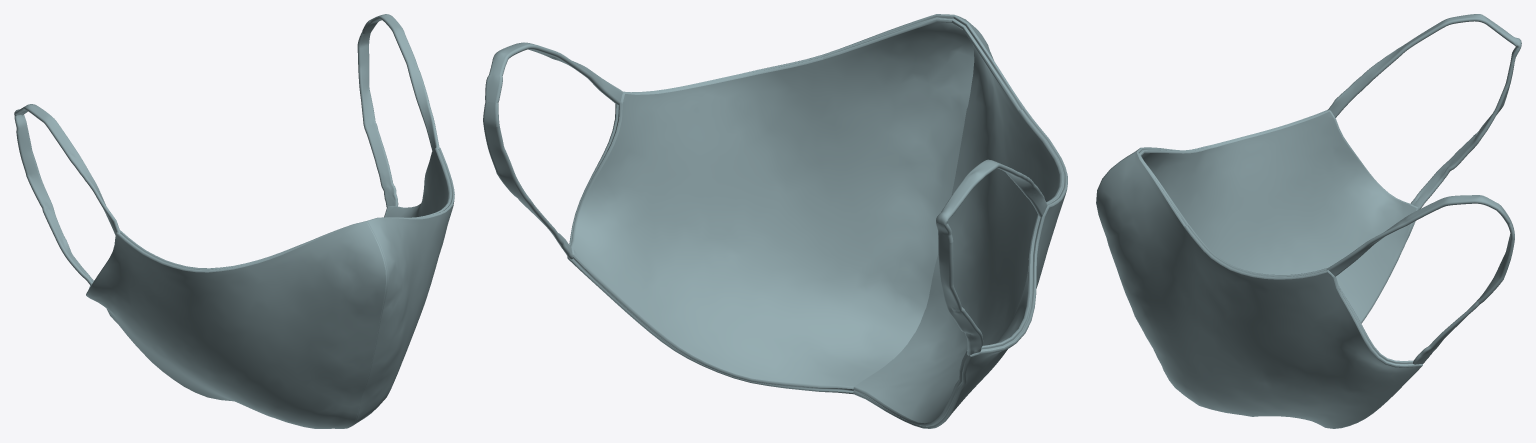
The model's file is mask.fbx.
The picture shows the model from 3 angles, left to right: view 1: azimuth 30°, elevation 25°; view 2: azimuth 150°, elevation 25°; view 3: azimuth 270°, elevation 25°; orthographic projection. The views are drawn at different scales.
Visible parts, largest first — view 1: Pattern2D_112050; view 2: Pattern2D_112050; view 3: Pattern2D_112050.
Part boxes in pixels (left/top/right/bottom): Pattern2D_112050: left=14, top=14, right=454, bottom=428; Pattern2D_112050: left=483, top=14, right=1067, bottom=428; Pattern2D_112050: left=1096, top=14, right=1521, bottom=428.
Size of the model in its own units: 18.02 by 13.2 by 16.99.
